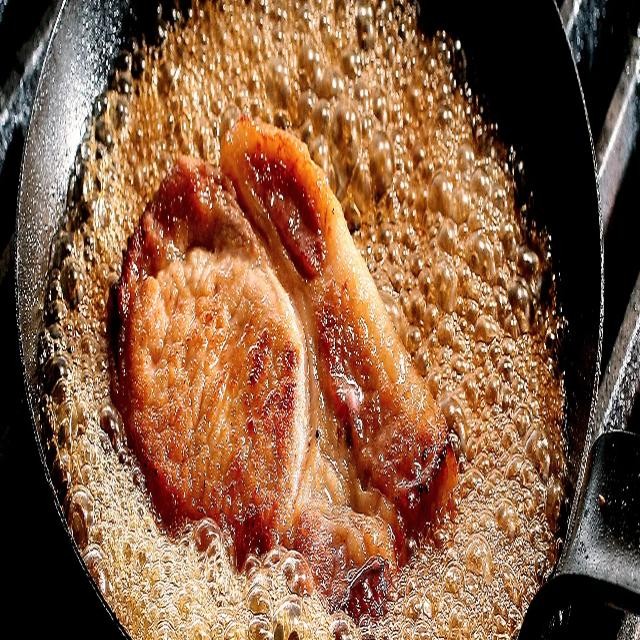carne de cerdo: (106, 103, 453, 619)
